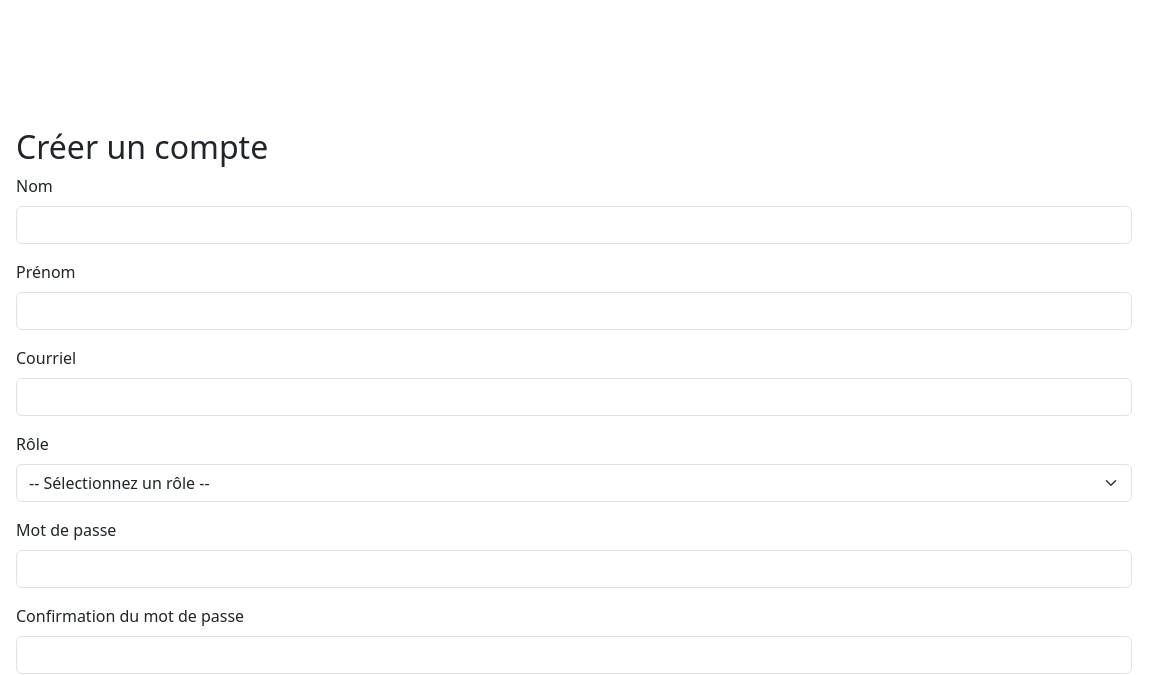
Inscription.vue › affiche une erreur serveur si l’API échoue
(page scrolled)
Type "Dupont" into the field with id "nom" at (574, 225), box left=16, top=206, right=1132, bottom=244
Type "Marie" into the field labelled "Prénom" at (574, 311), box left=16, top=292, right=1132, bottom=330
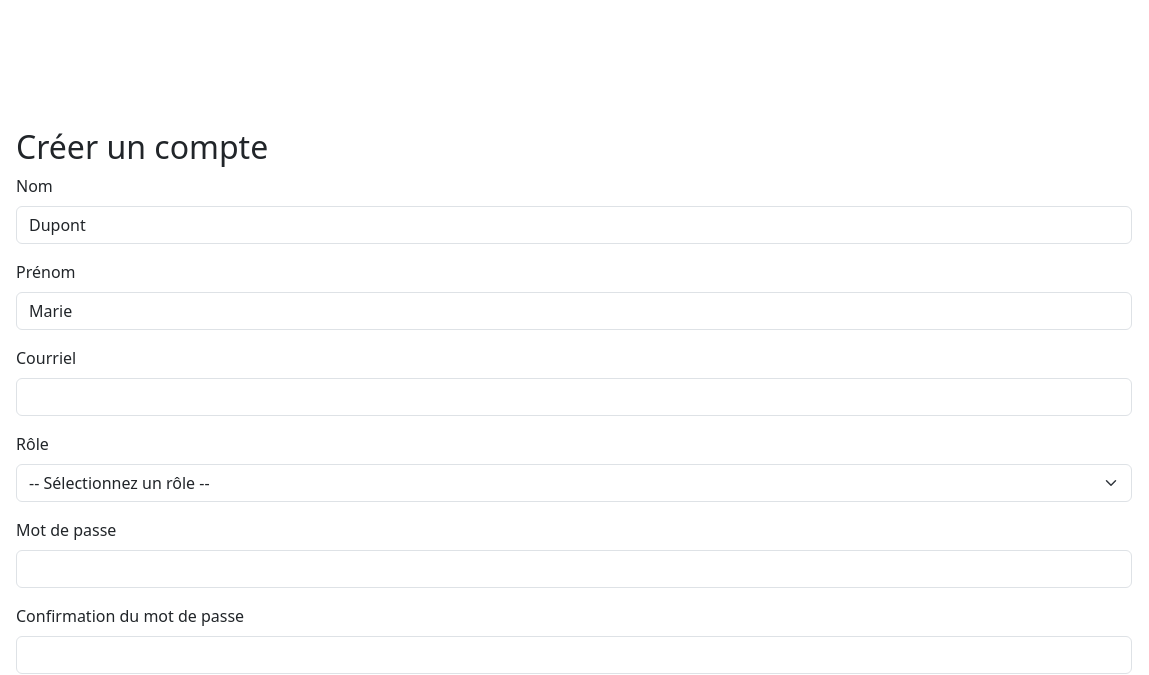
Type "marie@example.com" into the field with id "email" at (574, 397), box left=16, top=378, right=1132, bottom=416
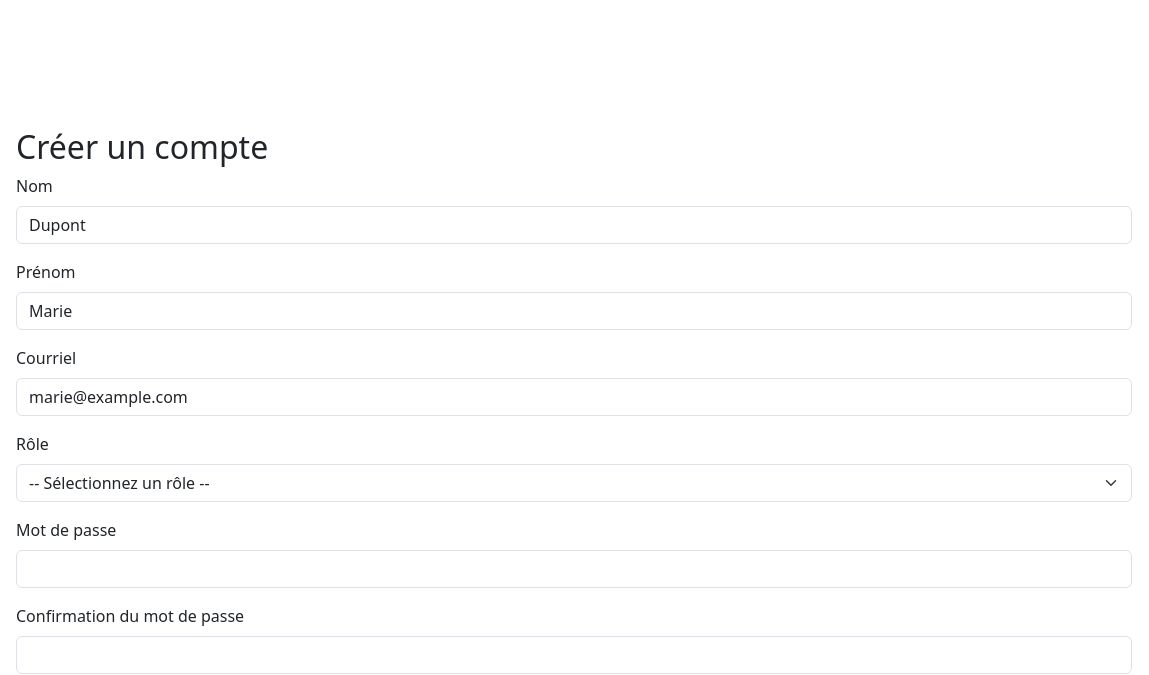
Select "Gestionnaire" in the dropdown with id "role" at (574, 483), box left=16, top=464, right=1132, bottom=502
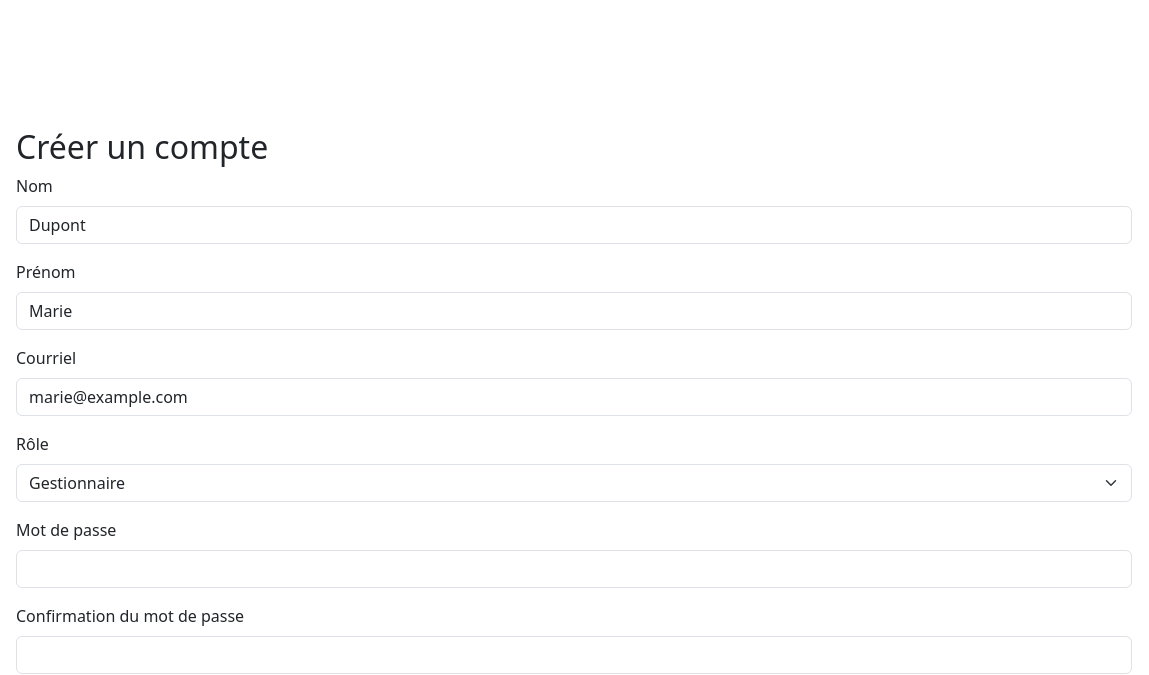
Type "abcdef" into the password field with id "motdepasse" at (574, 569), box left=16, top=550, right=1132, bottom=588
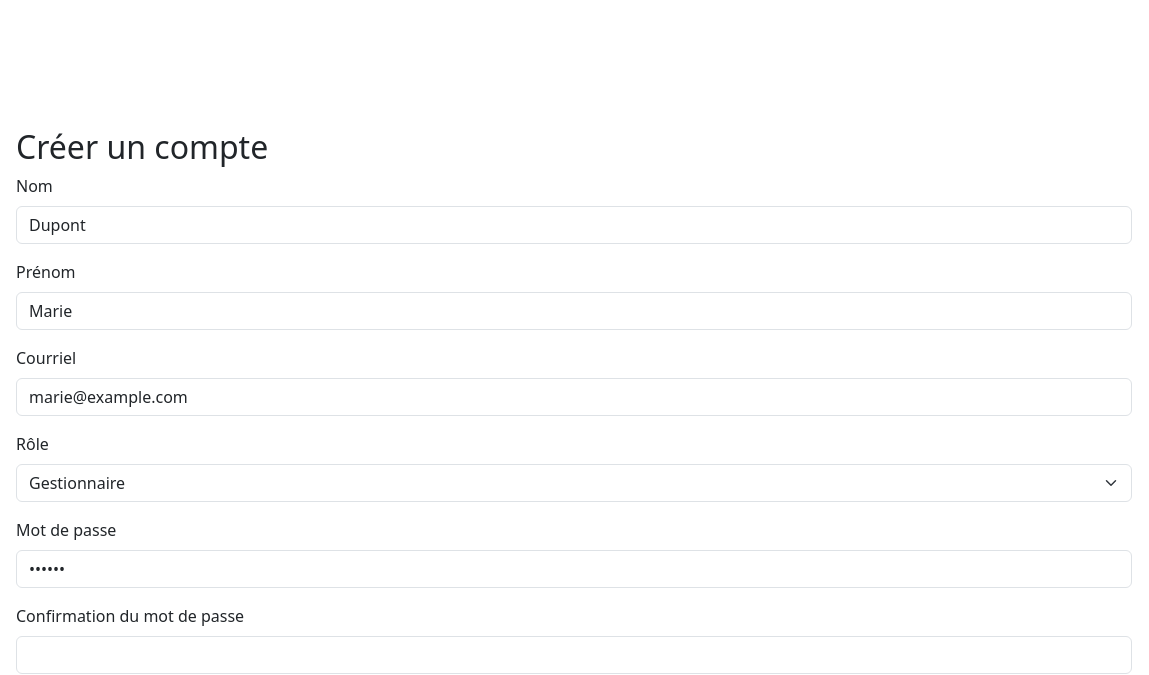
Type "abcdef" into the password field with id "confirmation" at (574, 655), box left=16, top=636, right=1132, bottom=674
(page scrolled)
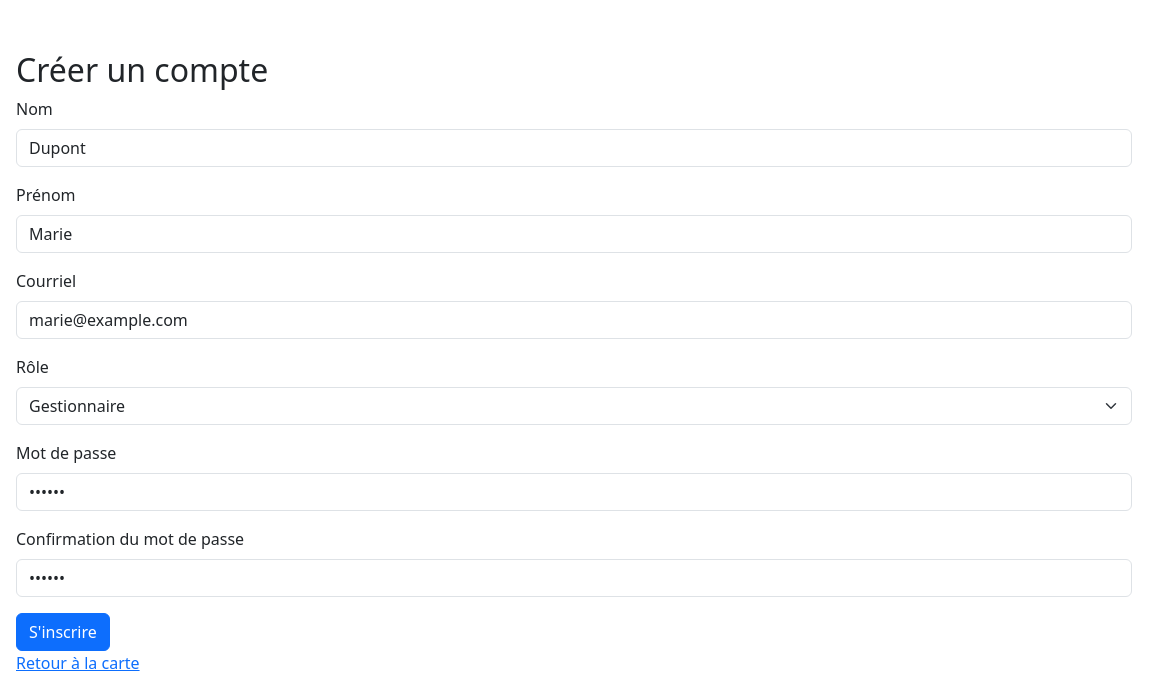
Submit the form
(page scrolled)
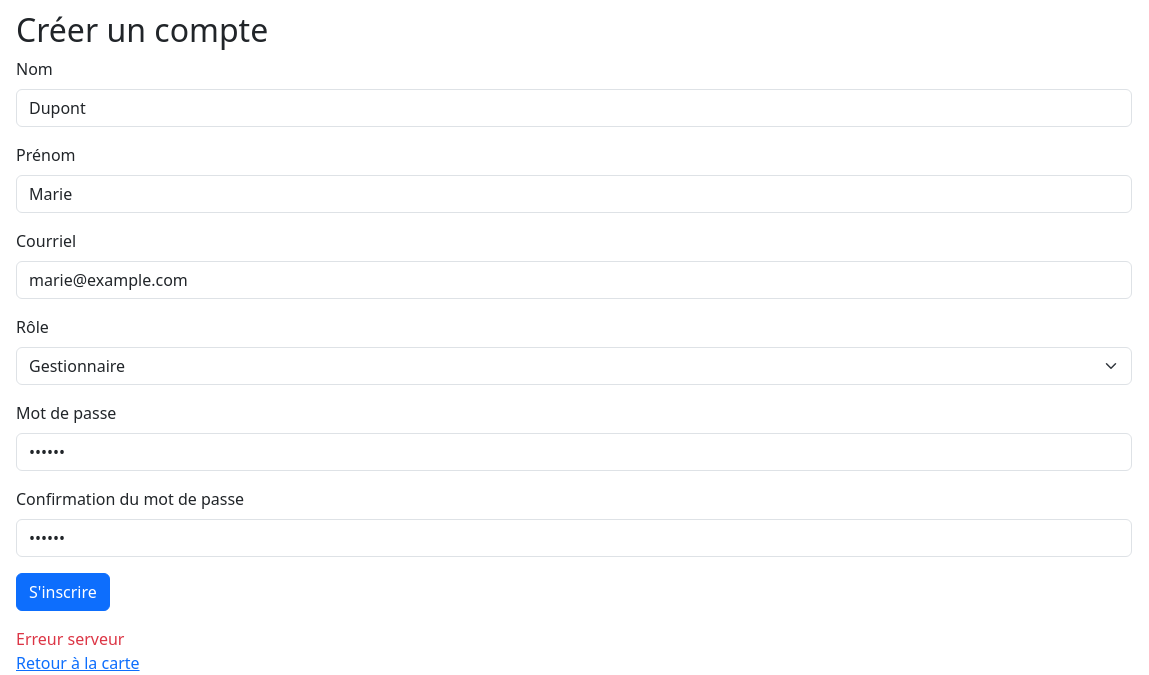
Check: the text "Erreur serveur" is shown, box left=16, top=628, right=124, bottom=650
